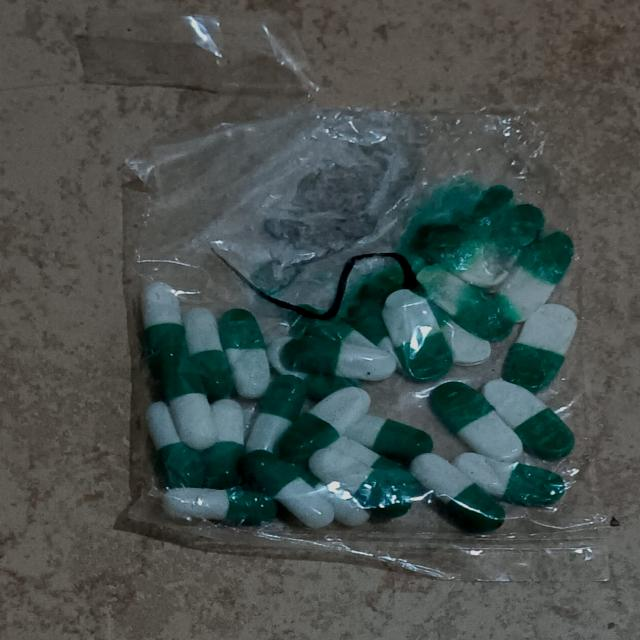obat: (118, 105, 605, 546), (144, 176, 576, 532)
